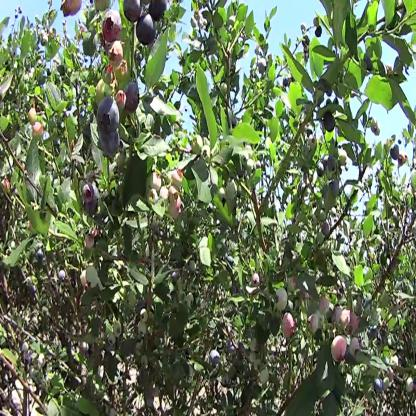intermediate: (330, 330, 349, 369), (102, 9, 123, 44), (106, 42, 127, 72), (168, 184, 182, 223), (339, 304, 354, 339), (281, 314, 296, 348), (79, 231, 99, 251), (308, 311, 320, 340), (173, 165, 182, 200), (403, 376, 415, 402), (80, 339, 92, 360), (33, 123, 45, 141)
mature: (96, 99, 123, 132), (97, 130, 123, 161), (136, 14, 157, 49), (147, 1, 169, 26), (83, 188, 100, 217), (256, 52, 272, 81), (388, 139, 401, 164), (315, 157, 327, 182), (323, 112, 336, 134), (209, 348, 222, 370), (372, 373, 384, 396), (22, 349, 34, 371), (317, 161, 327, 180), (313, 27, 325, 42)
young: (146, 170, 164, 192), (337, 147, 350, 177), (369, 112, 382, 139), (191, 131, 204, 158), (226, 177, 238, 204), (201, 144, 213, 167), (239, 147, 252, 168), (186, 291, 196, 314), (112, 320, 123, 339), (260, 368, 271, 386), (219, 80, 229, 97), (179, 290, 187, 305)
